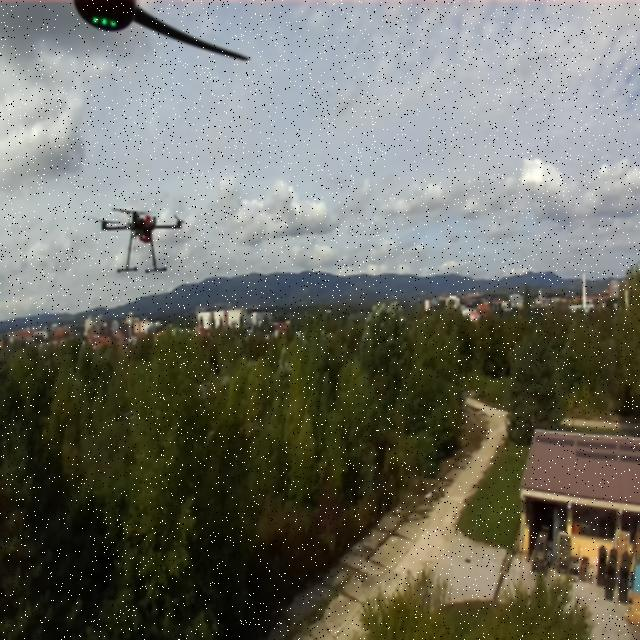UAV: (84, 203, 196, 274)
